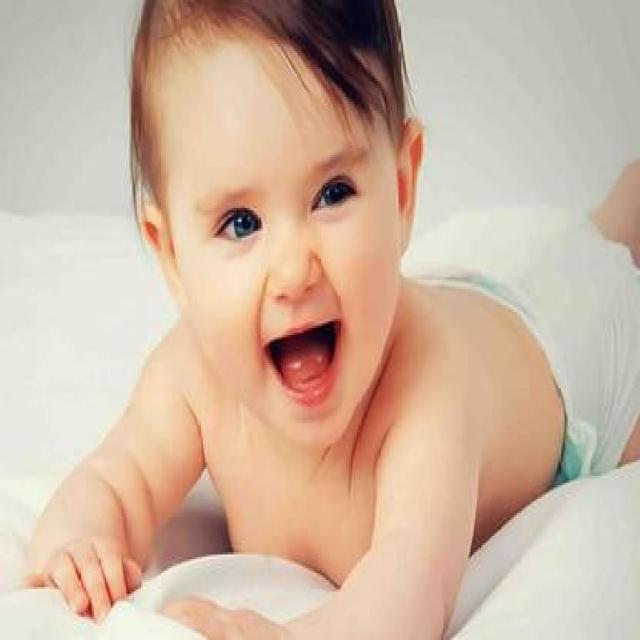non-dog: (25, 2, 638, 640)
